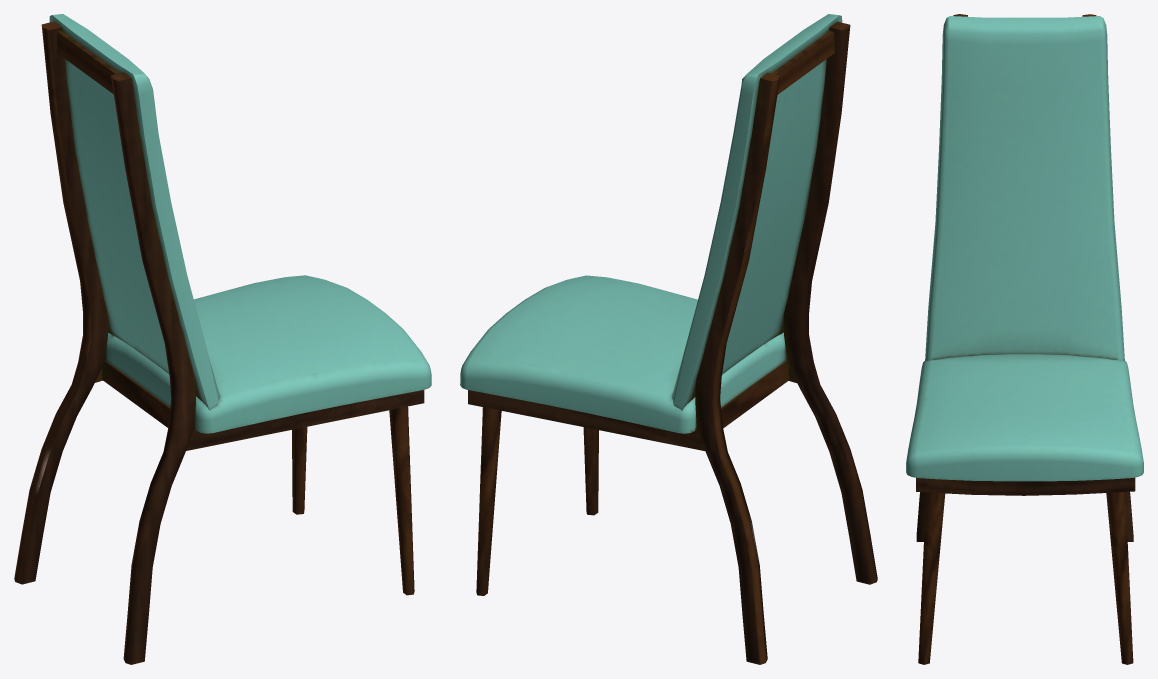
The model's file is dinningchair.gltf.
The picture shows the model from 3 angles, left to right: view 1: azimuth 30°, elevation 25°; view 2: azimuth 150°, elevation 25°; view 3: azimuth 270°, elevation 25°; orthographic projection. The views are drawn at different scales.
Visible parts, largest first — view 1: ChairB; view 2: ChairB; view 3: ChairB.
Boxes of the visible parts, left/top/right/bottom form: ChairB: left=14, top=14, right=431, bottom=664; ChairB: left=460, top=14, right=877, bottom=664; ChairB: left=906, top=14, right=1143, bottom=664.
Bounding box in the file's own units: 0.6998 × 1.23 × 0.5025.
Materials: 1 (1 with a texture image).
